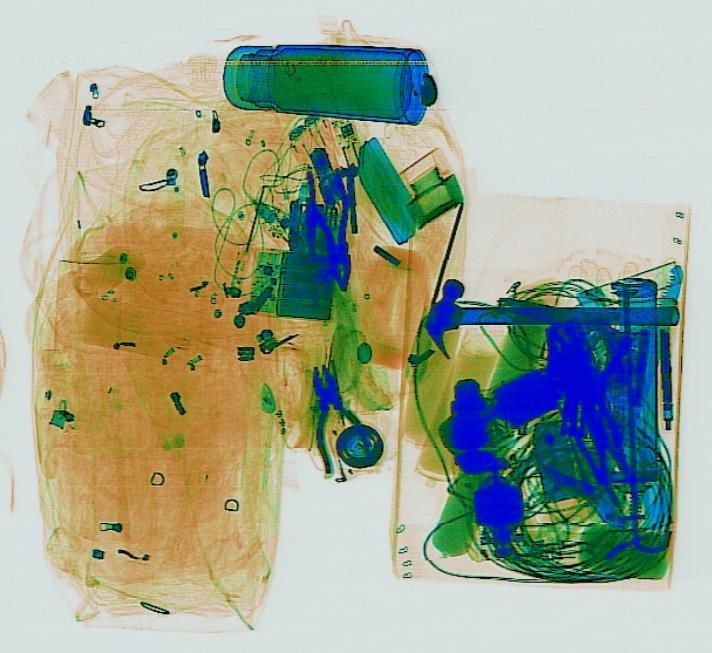Pliers: (293, 359, 375, 477), (297, 167, 370, 295)
